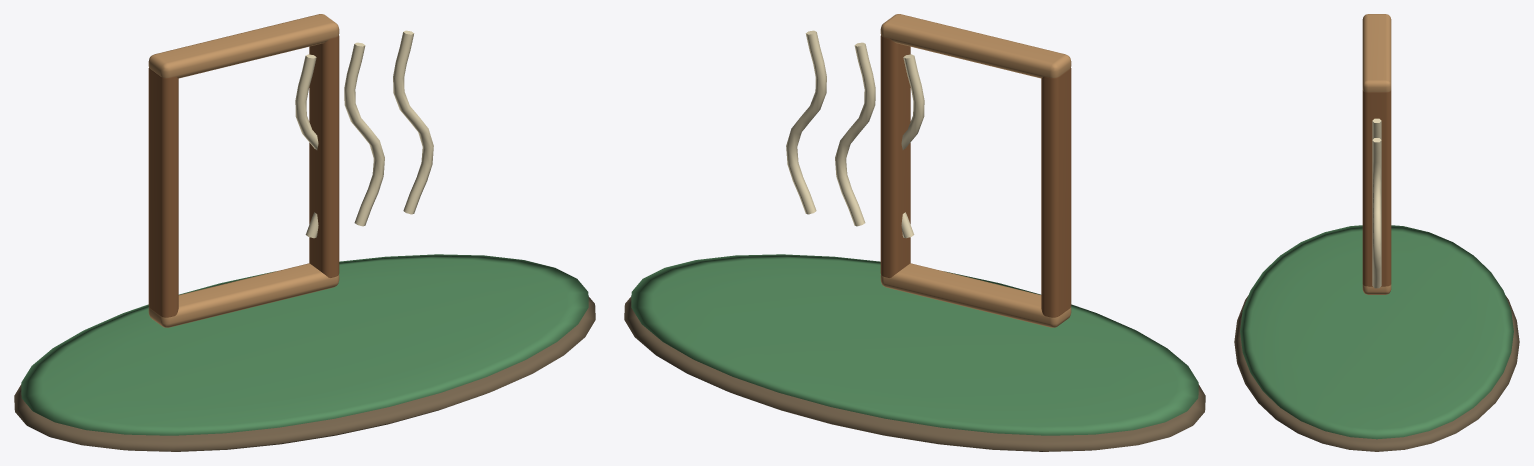
File: air.glb
The picture shows the model from 3 angles, left to right: view 1: azimuth 30°, elevation 25°; view 2: azimuth 150°, elevation 25°; view 3: azimuth 270°, elevation 25°; orthographic projection. The views are drawn at different scales.
Visible parts, largest first — view 1: air_surface_01, air_surface_02, air_surface_00, air_surface_03, air_surface_04; view 2: air_surface_01, air_surface_02, air_surface_00, air_surface_03, air_surface_04; view 3: air_surface_01, air_surface_00, air_surface_02, air_surface_03, air_surface_04.
Part boxes in pixels (x1=…): air_surface_01: x1=21, y1=254, x2=588, y2=435; air_surface_02: x1=148, y1=35, x2=339, y2=317; air_surface_00: x1=14, y1=296, x2=595, y2=451; air_surface_03: x1=148, y1=14, x2=339, y2=327; air_surface_04: x1=295, y1=30, x2=433, y2=238; air_surface_01: x1=631, y1=254, x2=1198, y2=435; air_surface_02: x1=880, y1=35, x2=1071, y2=317; air_surface_00: x1=624, y1=296, x2=1205, y2=451; air_surface_03: x1=880, y1=14, x2=1071, y2=327; air_surface_04: x1=786, y1=30, x2=924, y2=238; air_surface_01: x1=1240, y1=225, x2=1513, y2=439; air_surface_00: x1=1234, y1=295, x2=1519, y2=451; air_surface_02: x1=1362, y1=90, x2=1391, y2=286; air_surface_03: x1=1362, y1=14, x2=1391, y2=294; air_surface_04: x1=1372, y1=118, x2=1381, y2=288.
Size of the model in its own units: 4.56 by 2.75 by 2.5.
